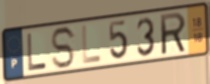3: (135, 16, 156, 58)
5: (108, 19, 130, 62)
L: (81, 24, 103, 67), (25, 32, 48, 73)
R: (158, 10, 188, 57)
S: (50, 25, 78, 71)
